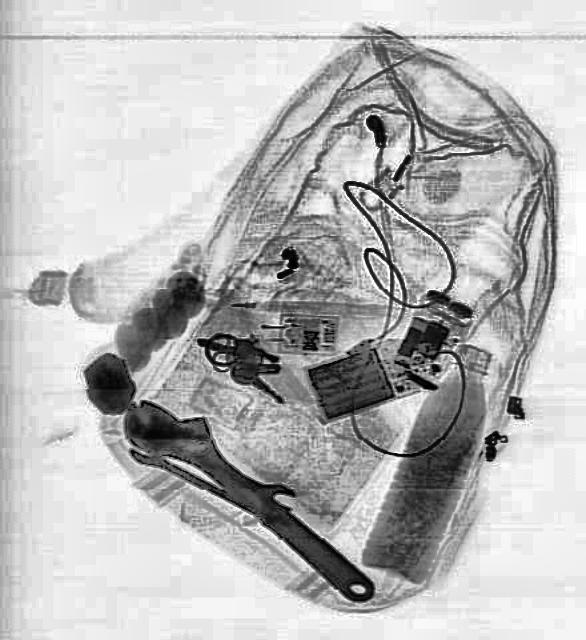Wrench: (110, 374, 392, 620)
